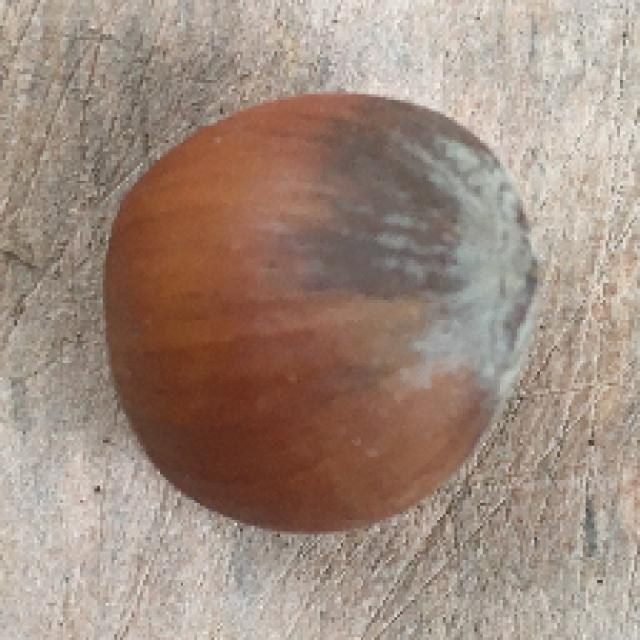damagedHazelnut: (108, 87, 541, 547)
